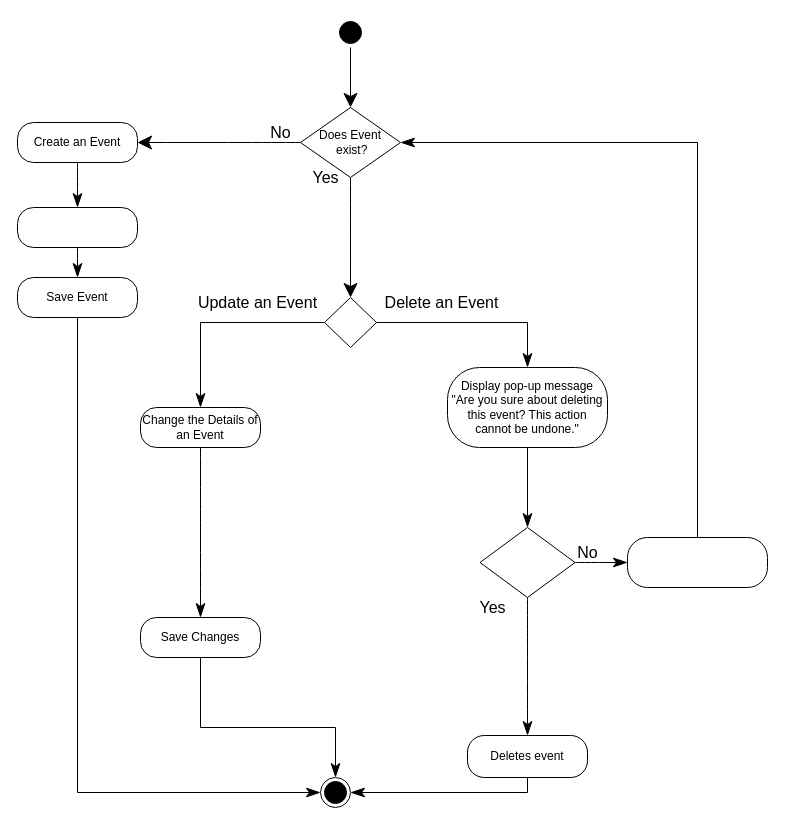
The diagram is 785 pixels wide and 825 high, and some of its shapes have lost their labels. The shapes that lost their labels are listed below. From the top down, each one's box as (x1, y1, x2, y2) in pixels, then its label:
(16, 206, 138, 248): Provide the Required Details
(479, 526, 575, 598): Confirm Deletion?
(626, 536, 768, 588): System redirects user to the start
